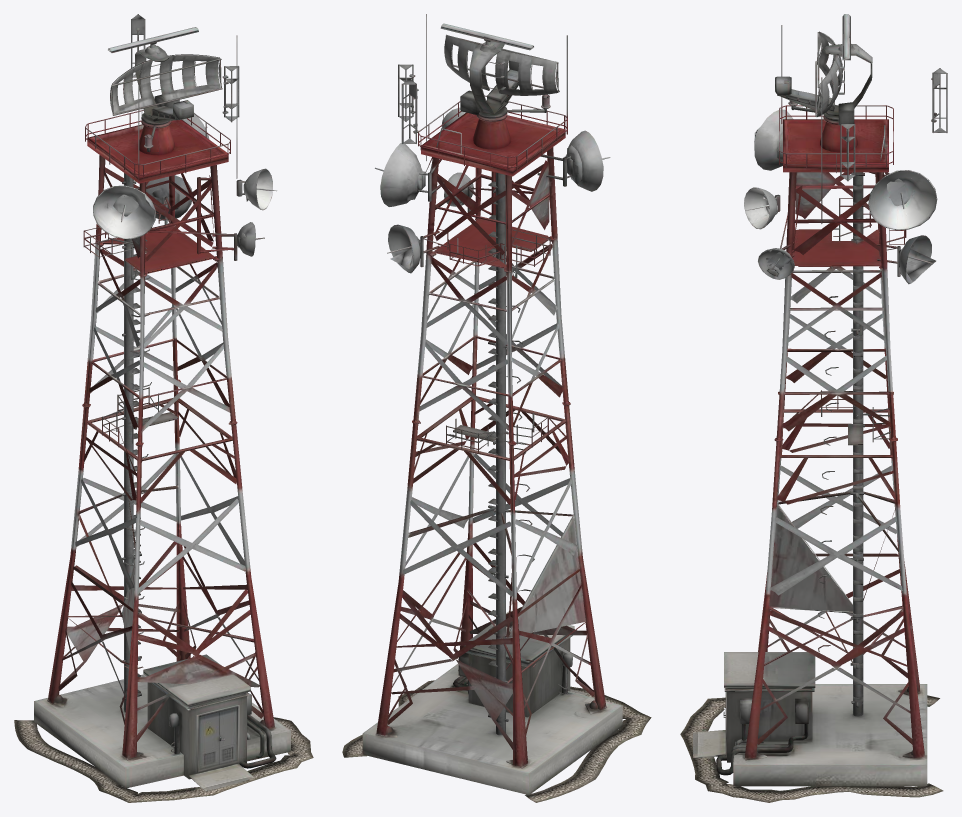
File: tower.glb
3 renders of one model, left to right at view 1: azimuth 30°, elevation 25°; view 2: azimuth 150°, elevation 25°; view 3: azimuth 270°, elevation 25°, orthographic. The views are drawn at different scales.
Visible parts, largest first — view 1: tripo_node_da006ade; view 2: tripo_node_da006ade; view 3: tripo_node_da006ade.
Boxes of the visible parts, box(x1,y1,x2,y2) form: tripo_node_da006ade: box(14, 14, 313, 802); tripo_node_da006ade: box(342, 14, 651, 802); tripo_node_da006ade: box(680, 14, 947, 802).
Bounding box in the file's own units: 0.3433 × 0.9995 × 0.3403.
Materials: 1 (1 with a texture image).
